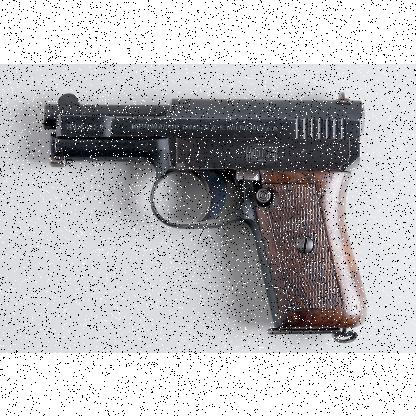gun: (43, 90, 368, 342)
